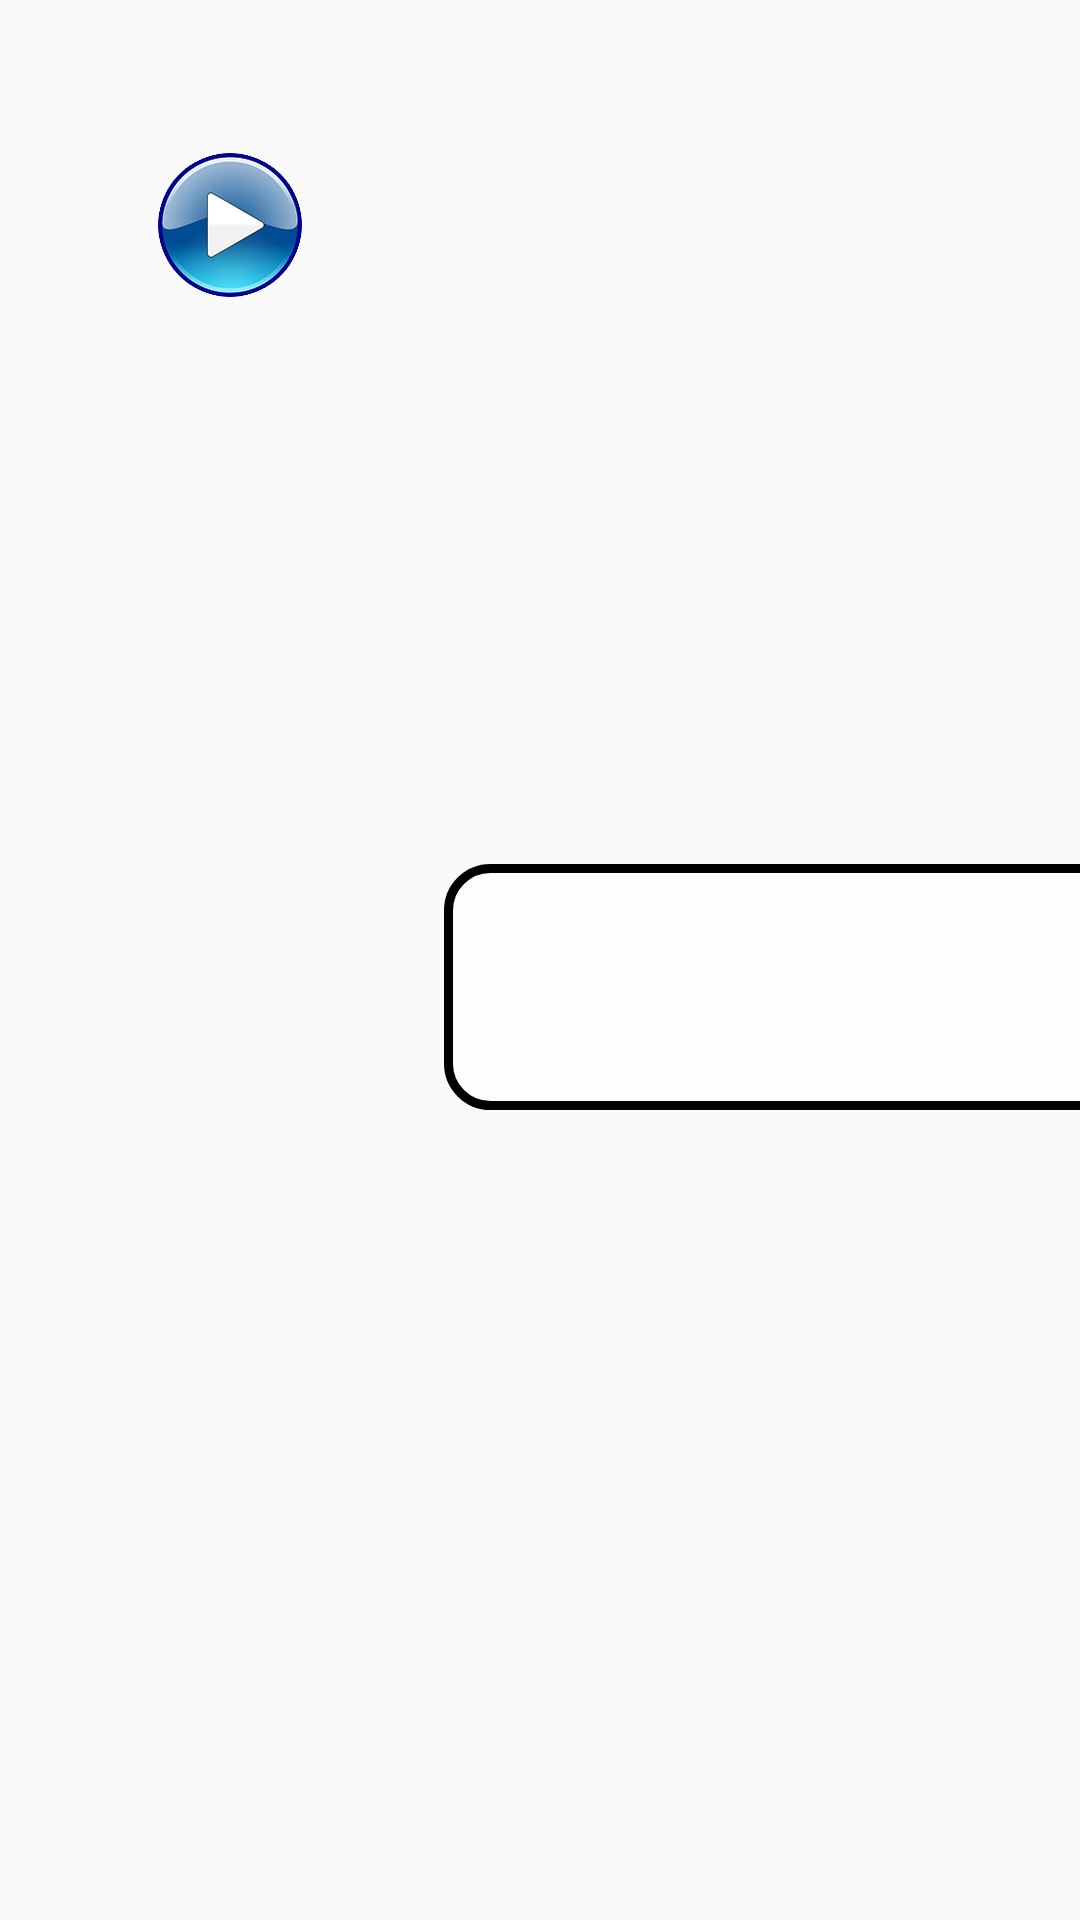

Icon click points for this 1080px x 1920px phone screenshot, format point (x, y):
Reprise: point (230, 225)
